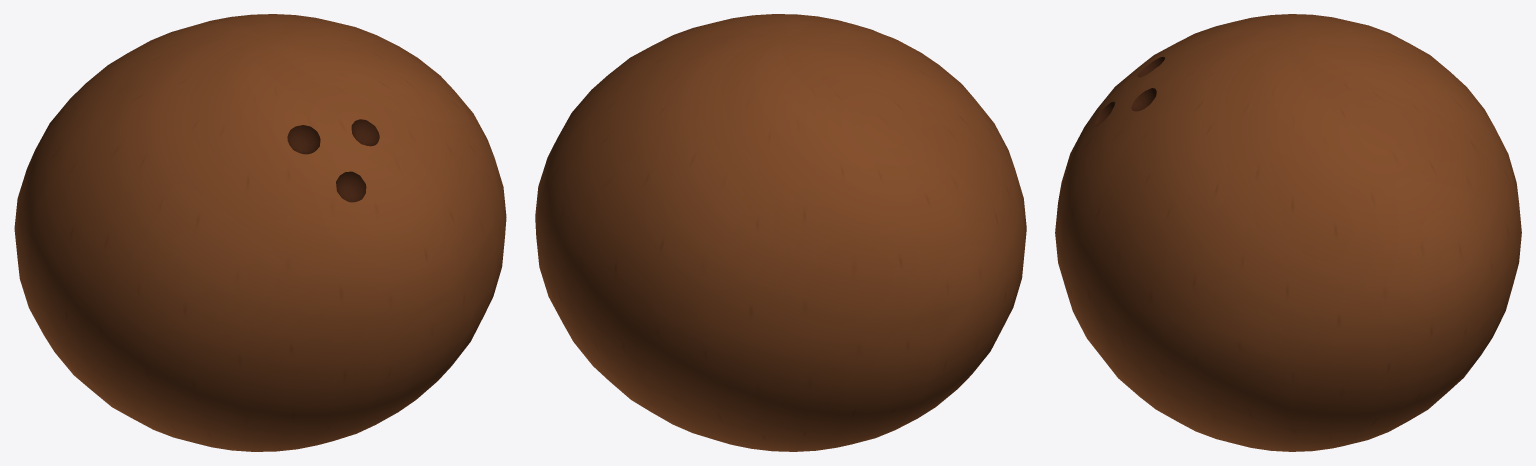
Rendered from Coconut.fbx.
3 views of the same model, side by side, from view 1: azimuth 30°, elevation 25°; view 2: azimuth 150°, elevation 25°; view 3: azimuth 270°, elevation 25° (orthographic).
Parts seen in each view (by area): view 1: Coconut; view 2: Coconut; view 3: Coconut.
Boxes of the visible parts, left/top/right/bottom form: Coconut: left=14, top=14, right=506, bottom=451; Coconut: left=535, top=14, right=1026, bottom=451; Coconut: left=1055, top=14, right=1521, bottom=451.
Size of the model in its own units: 212 by 182 by 200.
Materials: 1 (1 with a texture image).
